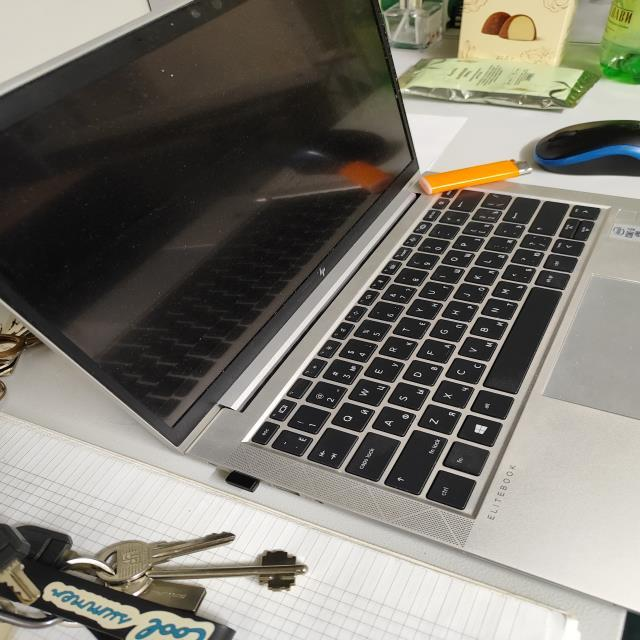lighter: (419, 159, 531, 195)
